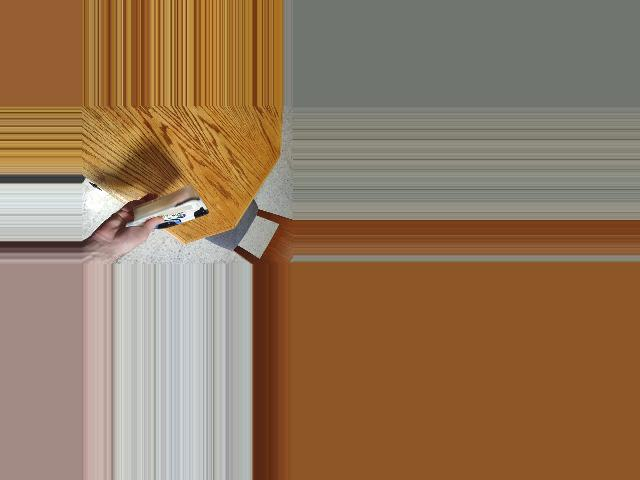cheese: (133, 182, 205, 243)
